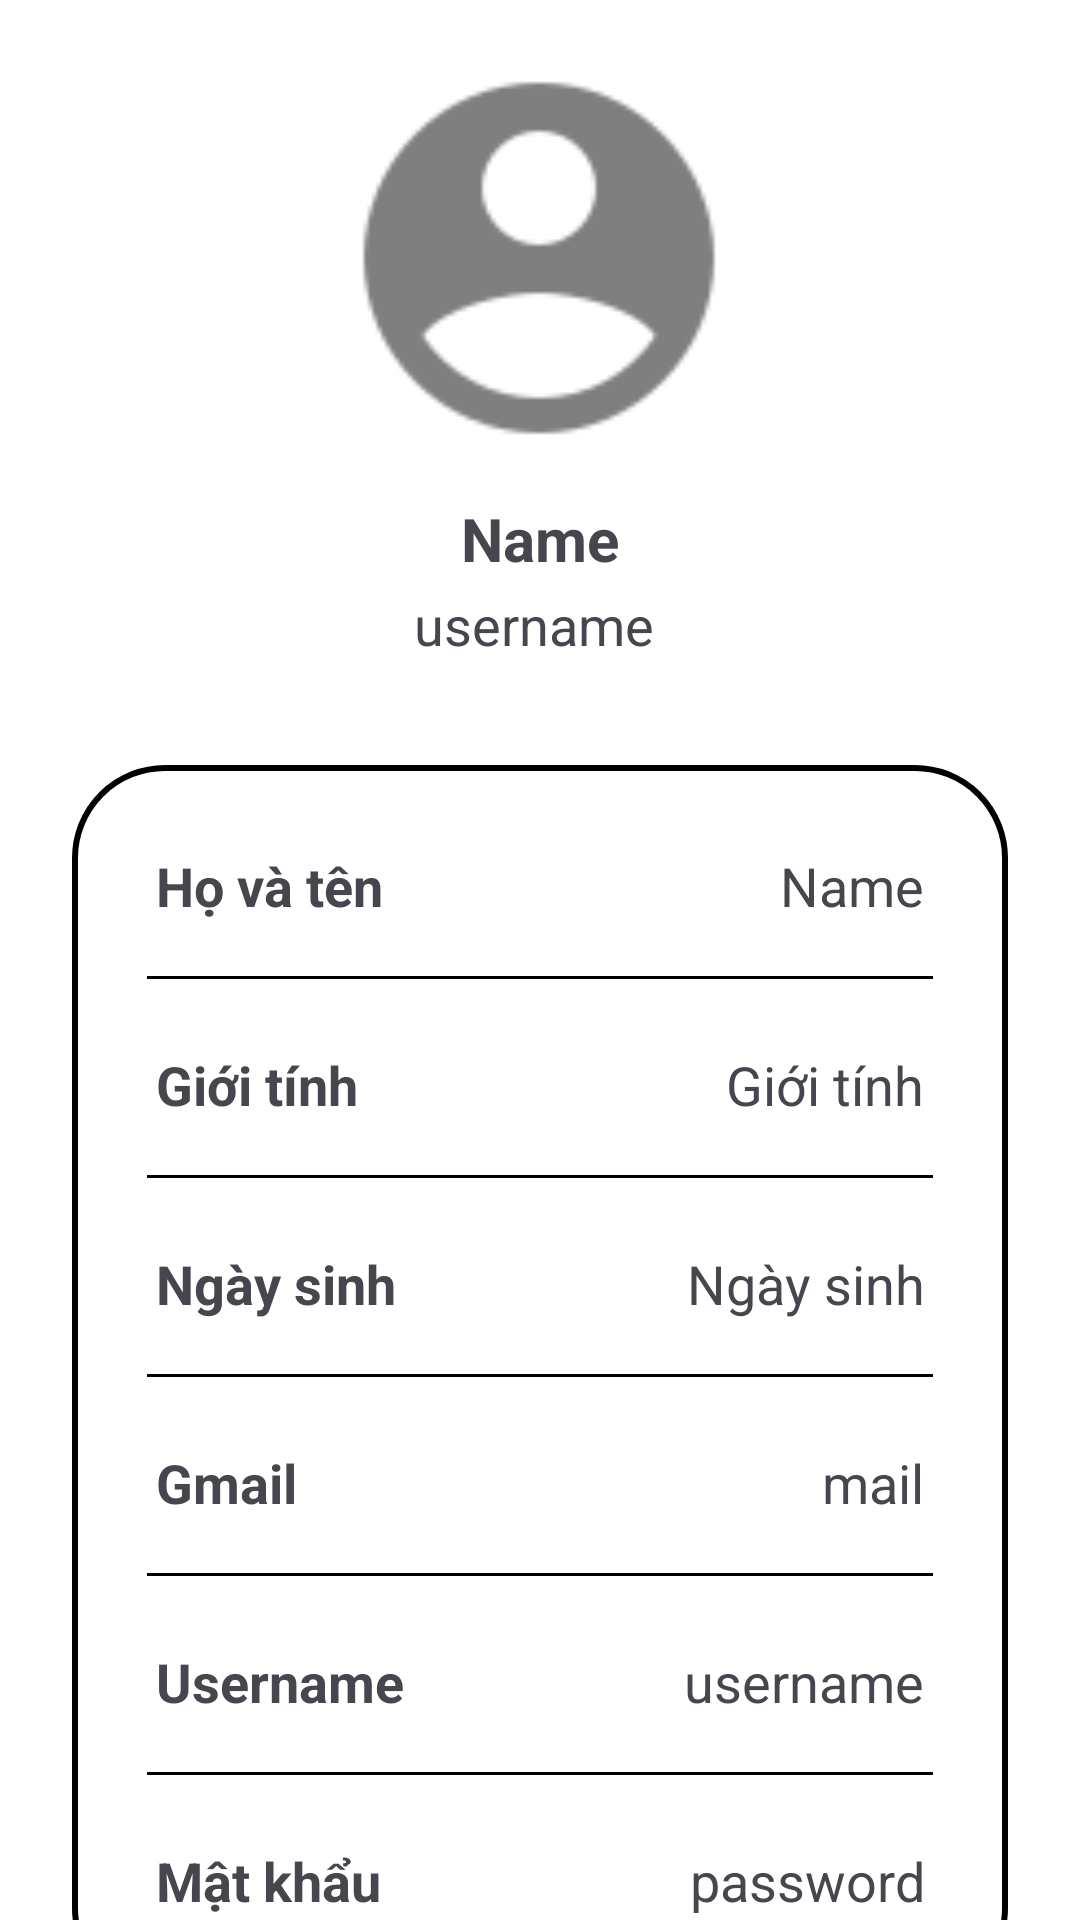

Locate icon controls on the screen. Image size 1080px x 1920px, boxes as (x1, y1, x2, y2).
profile: (363, 82, 715, 434)
